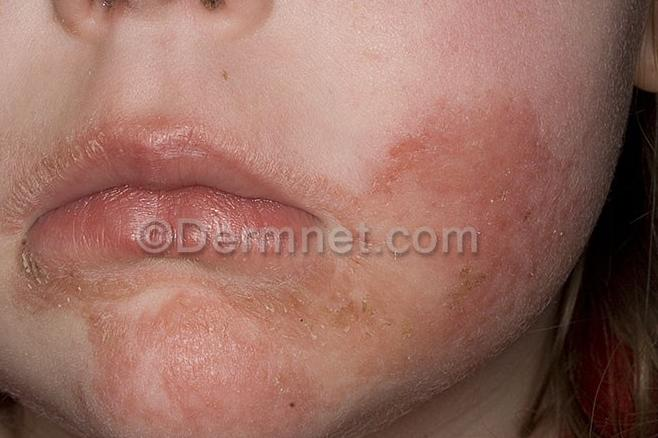eritema 1: (75, 62, 583, 438)
exudacion 1: (243, 256, 495, 345)
xerosis 1: (298, 0, 650, 438), (0, 124, 362, 227), (47, 233, 331, 311), (0, 363, 155, 438), (10, 238, 58, 294)
